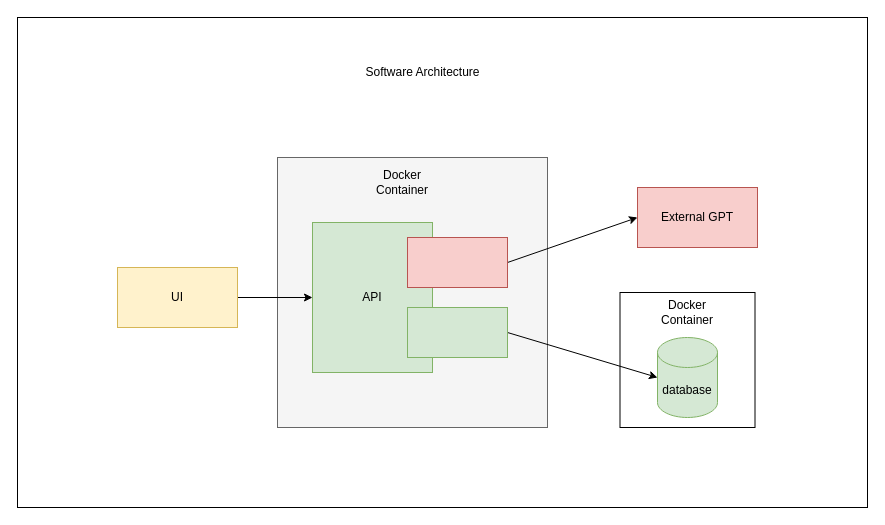
Some shapes in this 885 by 525 pixel diagram are drawn without their labels. The centre of each missing label's shape, as x and y in pixels:
"Data Layer" belongs at point 457,332.
"GPT Layer" belongs at point 457,262.
